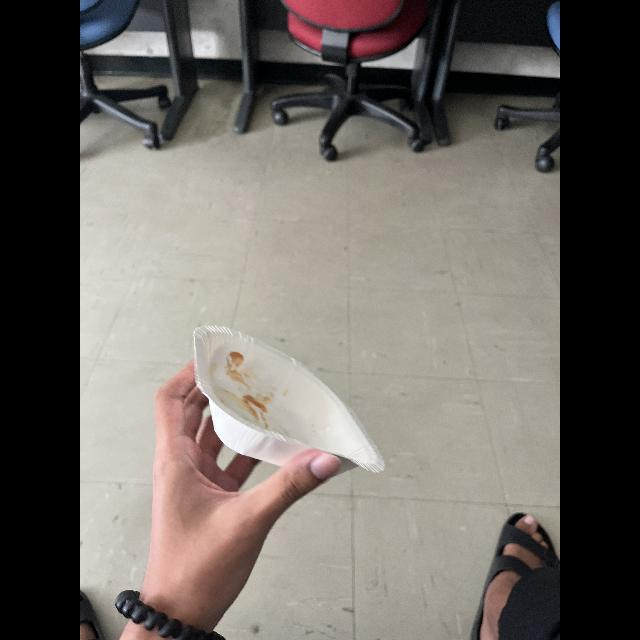cardboard_bowl: (188, 324, 390, 478)
